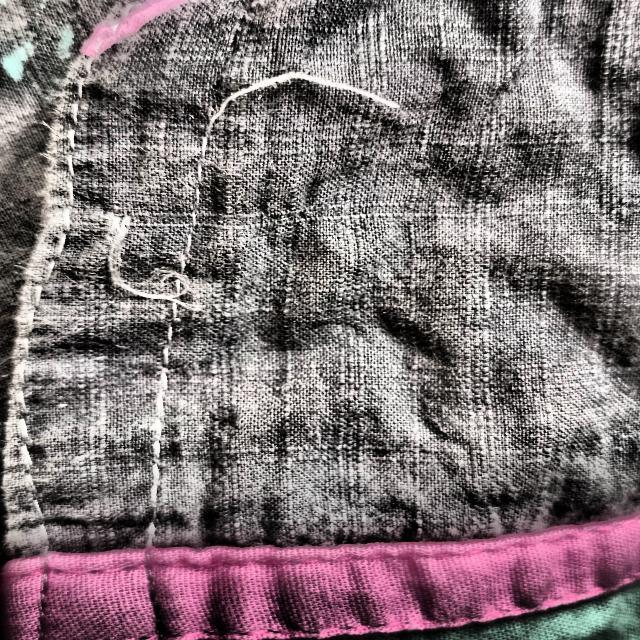gray stitch: (213, 50, 451, 142), (58, 193, 213, 326)
